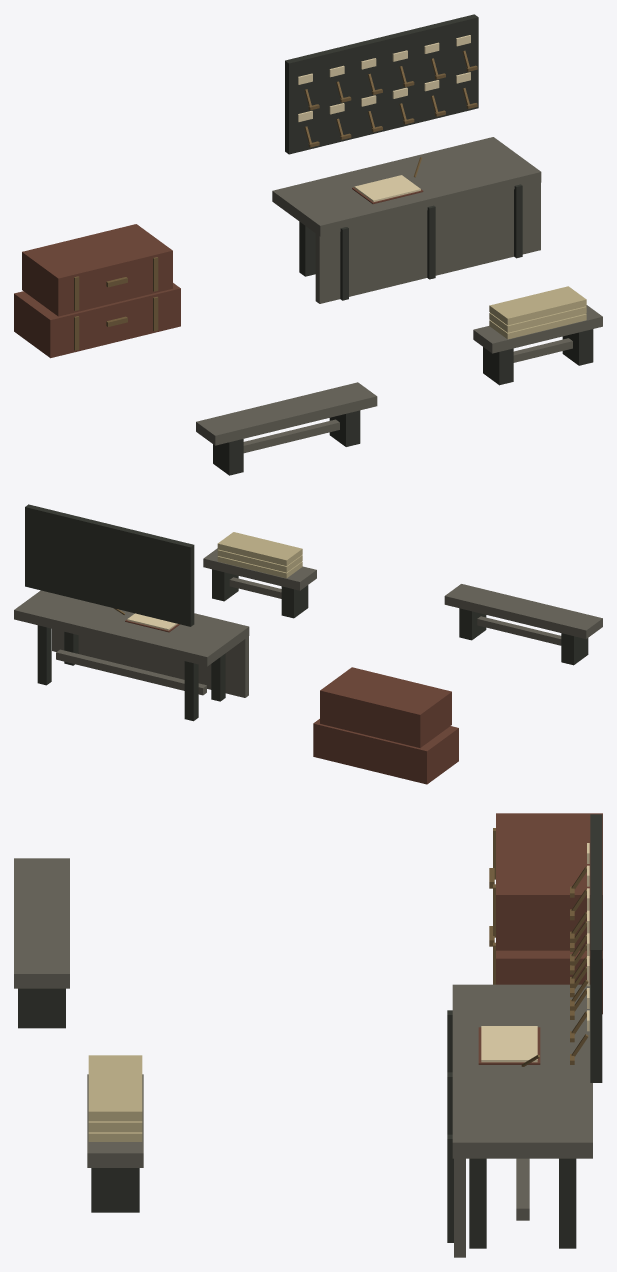
File: village_lanterninn_artifacts.glb
The picture shows the model from 3 angles, top to bottom: view 1: azimuth 30°, elevation 25°; view 2: azimuth 150°, elevation 25°; view 3: azimuth 270°, elevation 25°; orthographic projection. The views are drawn at different scales.
Visible parts, largest first — view 1: village_lanterninn_artifacts; view 2: village_lanterninn_artifacts; view 3: village_lanterninn_artifacts.
Part boxes in pixels (left/top/right/bottom): village_lanterninn_artifacts: left=14, top=14, right=602, bottom=475; village_lanterninn_artifacts: left=14, top=504, right=602, bottom=784; village_lanterninn_artifacts: left=14, top=813, right=602, bottom=1257.
Bounding box in the file's own units: 6.03 × 2.5 × 4.41.
